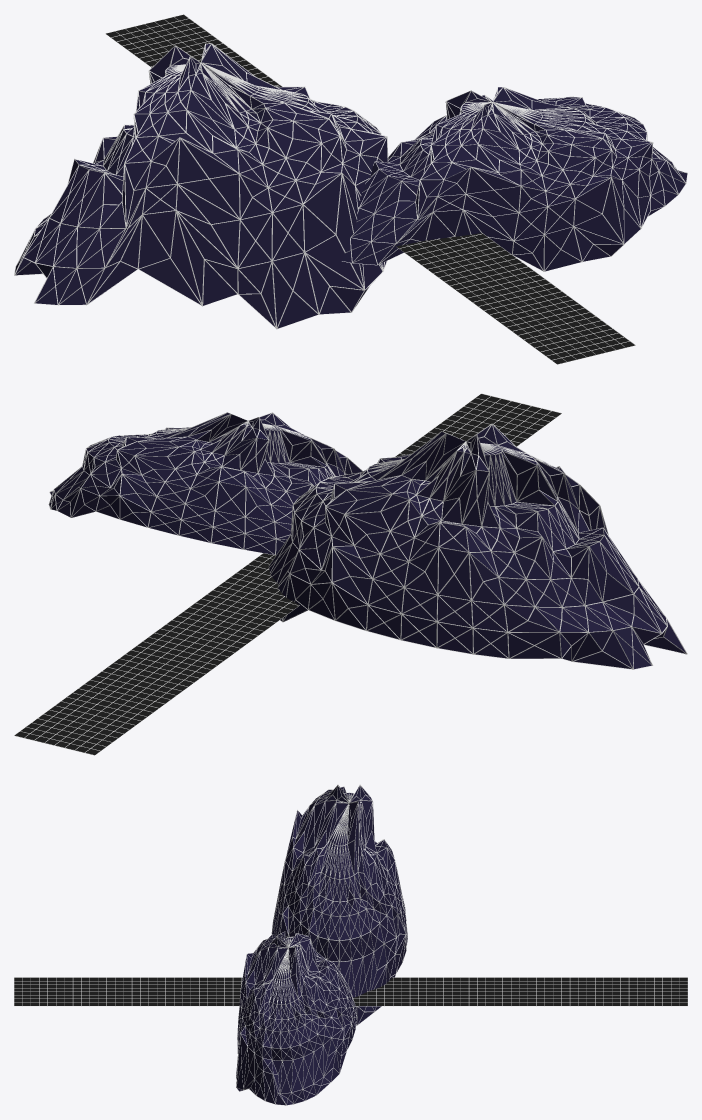
File: wooden_floor.fbx
The picture shows the model from 3 angles, top to bottom: view 1: azimuth 30°, elevation 25°; view 2: azimuth 150°, elevation 25°; view 3: azimuth 270°, elevation 25°; orthographic projection. The views are drawn at different scales.
Visible parts, largest first — view 1: mountain.001, mountain, Plane; view 2: mountain.001, mountain, Plane; view 3: mountain.001, Plane, mountain.
Part boxes in pixels (box(x1,y1,x2,y2)): mountain.001: box(14, 43, 388, 329); mountain: box(342, 87, 687, 271); Plane: box(105, 14, 635, 364); mountain.001: box(268, 423, 687, 669); mountain: box(48, 412, 362, 555); Plane: box(14, 393, 561, 755); mountain.001: box(271, 784, 407, 1025); Plane: box(14, 977, 687, 1006); mountain: box(236, 931, 356, 1105).
Size of the model in its own units: 8252 by 3093 by 10156.
